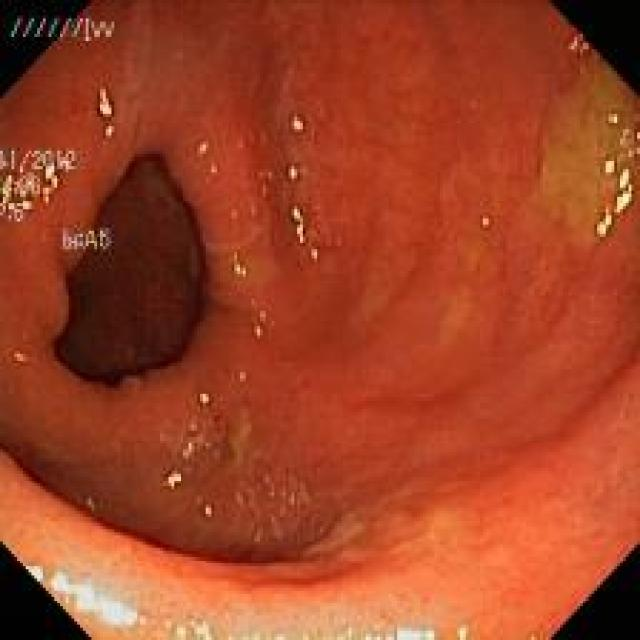ulcerative-colitis-grade-1: (2, 4, 639, 639)
